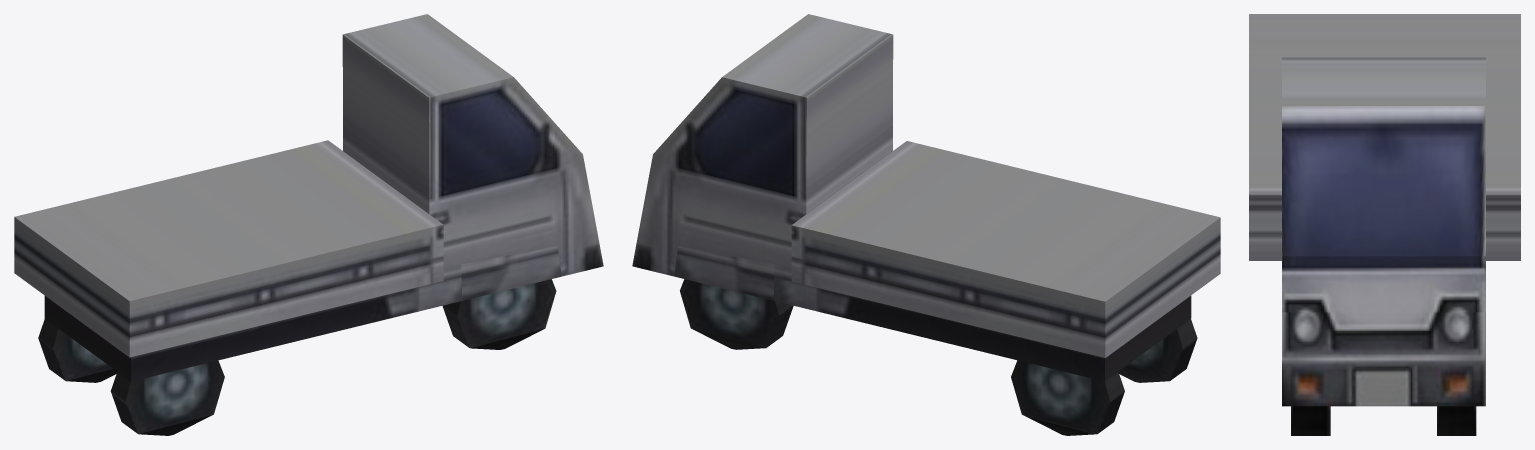
Rendered from low_poly_car.glb.
3 renders of one model, left to right at view 1: azimuth 30°, elevation 25°; view 2: azimuth 150°, elevation 25°; view 3: azimuth 270°, elevation 25°, orthographic. The views are drawn at different scales.
Parts seen in each view (by area): view 1: Car; view 2: Car; view 3: Car.
Part boxes in pixels (x1,y1,x2,y2): Car: (14,14,603,435); Car: (632,14,1220,435); Car: (1249,14,1520,435).
Size of the model in its own units: 3.39 by 1.85 by 1.39.
1 material, 1 textured.
